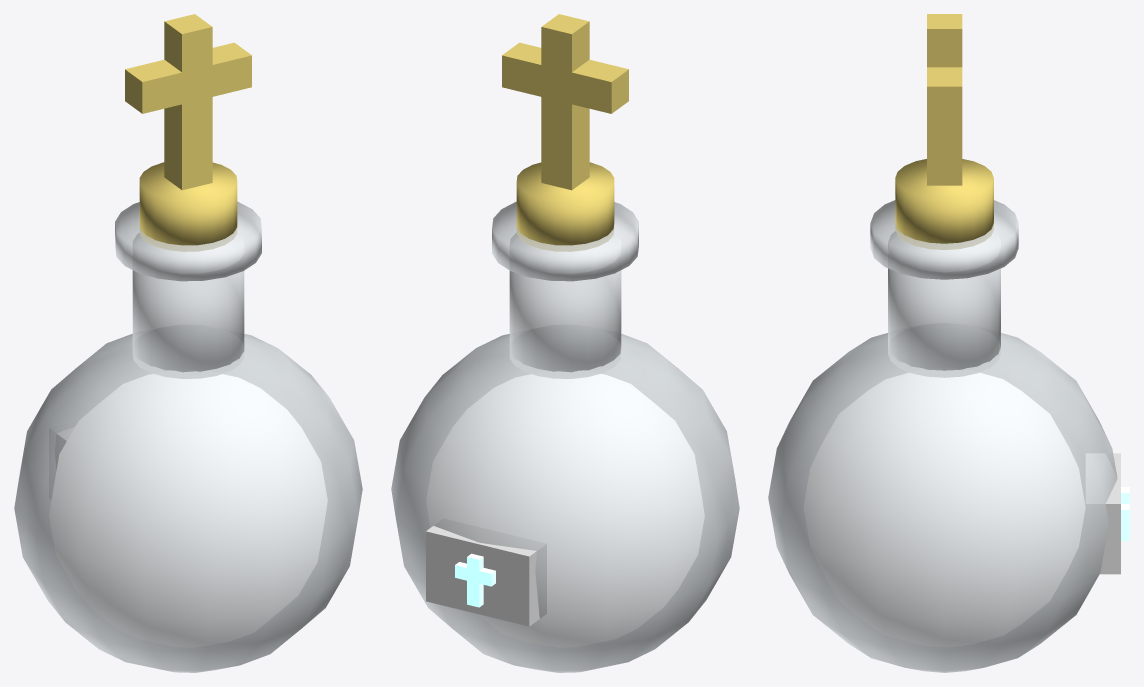
File: HolyWater.fbx
3 views of the same model, side by side, from view 1: azimuth 30°, elevation 25°; view 2: azimuth 150°, elevation 25°; view 3: azimuth 270°, elevation 25° (orthographic).
Parts seen in each view (by area): view 1: HolyWater.Body, HolyWater.Liquid, HolyWater.Neck, HolyWater.CrossPost, HolyWater.Stopper, HolyWater.Lip, HolyWater.CrossBar; view 2: HolyWater.Body, HolyWater.Liquid, HolyWater.Neck, HolyWater.Label, HolyWater.Stopper, HolyWater.CrossPost, HolyWater.Lip, HolyWater.CrossBar, HolyWater.LabelCross1, HolyWater.LabelCross2; view 3: HolyWater.Body, HolyWater.Liquid, HolyWater.Neck, HolyWater.Stopper, HolyWater.Lip, HolyWater.CrossPost, HolyWater.Label, HolyWater.CrossBar.
Boxes of the visible parts, x1,y1,x2,y2 form: HolyWater.Body: (14,325,362,672); HolyWater.Liquid: (49,374,327,647); HolyWater.Neck: (132,233,244,378); HolyWater.CrossPost: (164,14,212,190); HolyWater.Stopper: (139,162,237,251); HolyWater.Lip: (115,201,261,281); HolyWater.CrossBar: (125,42,251,113); HolyWater.Body: (391,325,739,672); HolyWater.Liquid: (426,374,704,647); HolyWater.Neck: (509,233,621,378); HolyWater.Label: (426,519,546,626); HolyWater.Stopper: (516,162,614,251); HolyWater.CrossPost: (541,14,589,190); HolyWater.Lip: (492,201,638,281); HolyWater.CrossBar: (502,42,628,113); HolyWater.LabelCross1: (467,553,483,607); HolyWater.LabelCross2: (455,562,495,586); HolyWater.Body: (768,323,1117,672); HolyWater.Liquid: (804,373,1085,647); HolyWater.Neck: (888,231,1000,377); HolyWater.Stopper: (895,159,993,249); HolyWater.Lip: (870,200,1018,279); HolyWater.CrossPost: (927,14,962,185); HolyWater.Label: (1086,453,1120,574); HolyWater.CrossBar: (927,67,962,118).
Bounding box in the file's own units: 1 × 1.99 × 1.02.
